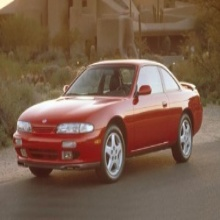no damage: (13, 57, 204, 184)
